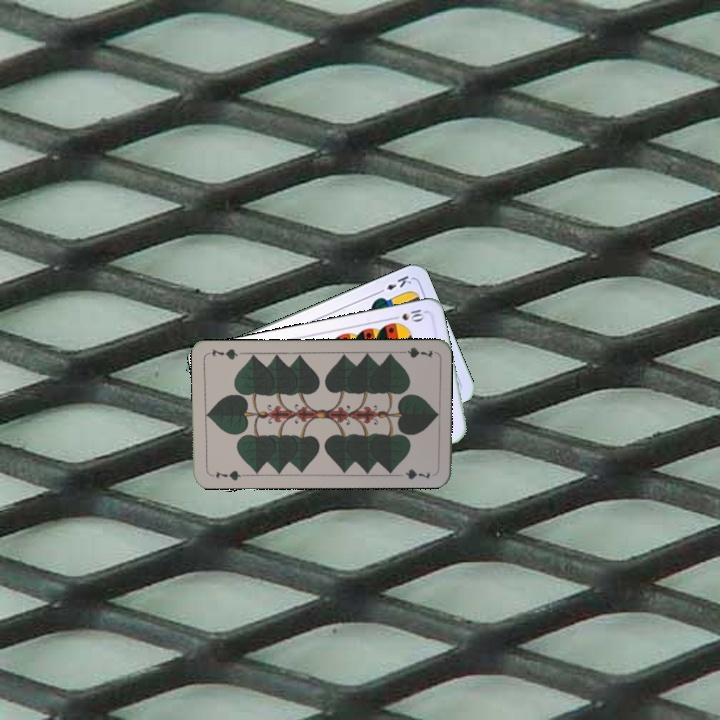EK: (374, 271, 414, 296)
G7: (395, 343, 435, 360), (212, 467, 247, 483)
S10: (387, 305, 427, 327)
